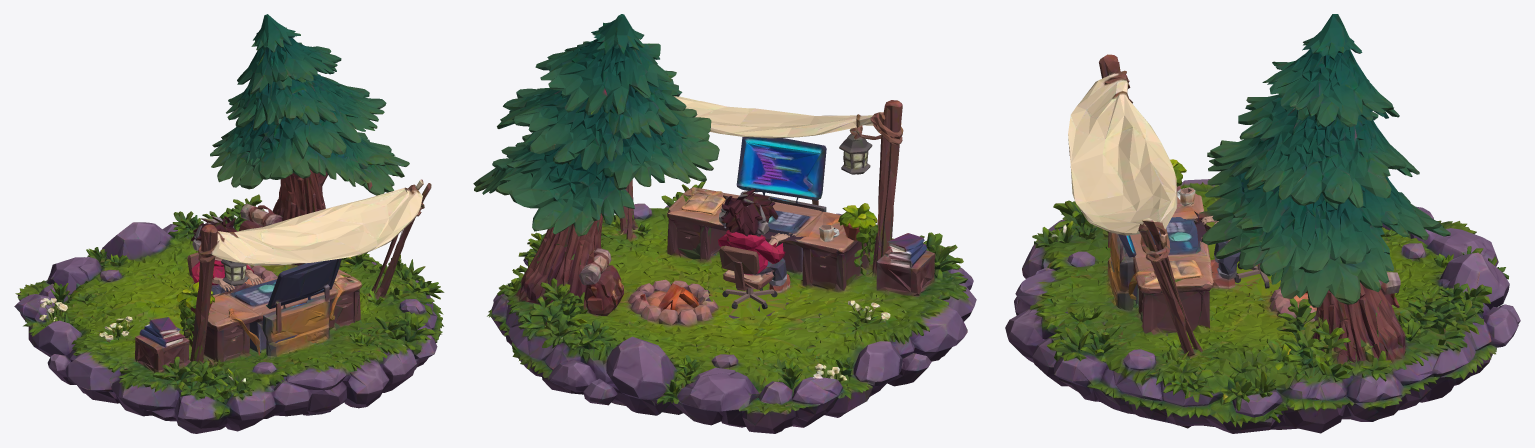
File: island-hands-v3.glb
The picture shows the model from 3 angles, left to right: view 1: azimuth 30°, elevation 25°; view 2: azimuth 150°, elevation 25°; view 3: azimuth 270°, elevation 25°; orthographic projection. The views are drawn at different scales.
Parts seen in each view (by area): view 1: Repair trial ground export, model_part4 export, model_part2 export, Hands v3 desk export, Hands v3 character export; view 2: Repair trial ground export, model_part4 export, Hands v3 desk export, model_part2 export, Hands v3 character export, Repair trial ground infill export, Repair trial five caster chair base export; view 3: Repair trial ground export, model_part4 export, model_part2 export, Hands v3 desk export, Repair trial ground infill export.
Boxes of the visible parts, bbox=[...] form: Repair trial ground export: bbox=[14, 194, 444, 433]; model_part4 export: bbox=[210, 14, 409, 265]; model_part2 export: bbox=[193, 179, 431, 360]; Hands v3 desk export: bbox=[176, 258, 361, 362]; Hands v3 character export: bbox=[187, 215, 253, 293]; Repair trial ground export: bbox=[487, 181, 976, 433]; model_part4 export: bbox=[473, 14, 719, 274]; Hands v3 desk export: bbox=[667, 137, 878, 289]; model_part2 export: bbox=[620, 96, 903, 277]; Hands v3 character export: bbox=[718, 189, 785, 290]; Repair trial ground infill export: bbox=[709, 285, 786, 317]; Repair trial five caster chair base export: bbox=[722, 287, 777, 309]; Repair trial ground export: bbox=[1005, 179, 1520, 433]; model_part4 export: bbox=[1199, 14, 1450, 362]; model_part2 export: bbox=[1068, 54, 1192, 356]; Hands v3 desk export: bbox=[1107, 159, 1213, 328]; Repair trial ground infill export: bbox=[1230, 264, 1280, 295].
Bounding box in the file's own units: 1.9 × 1.48 × 1.86.
Materials: 4 (1 with a texture image).
